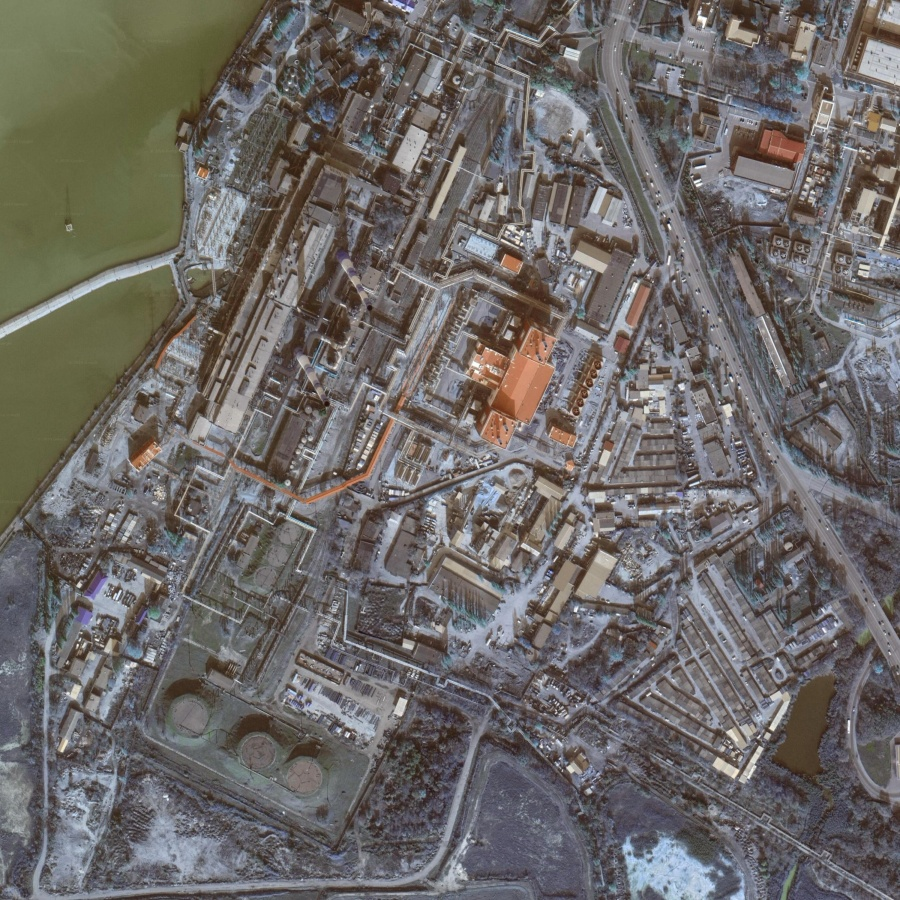PowerPlant: (160, 100, 434, 509), (153, 514, 339, 808)
